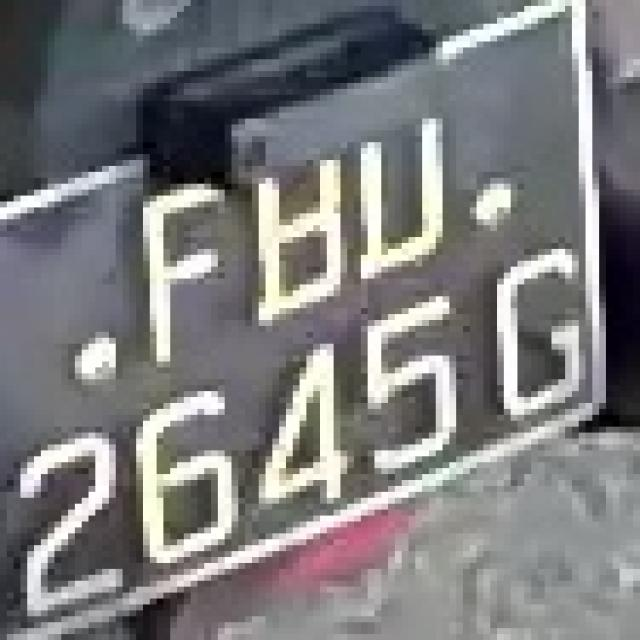2: (14, 409, 136, 616)
4: (238, 338, 354, 527)
5: (347, 290, 463, 498)
6: (123, 385, 238, 575)
B: (238, 124, 354, 338)
D: (340, 100, 450, 266)
F: (136, 148, 232, 356)
G: (477, 243, 599, 433)
